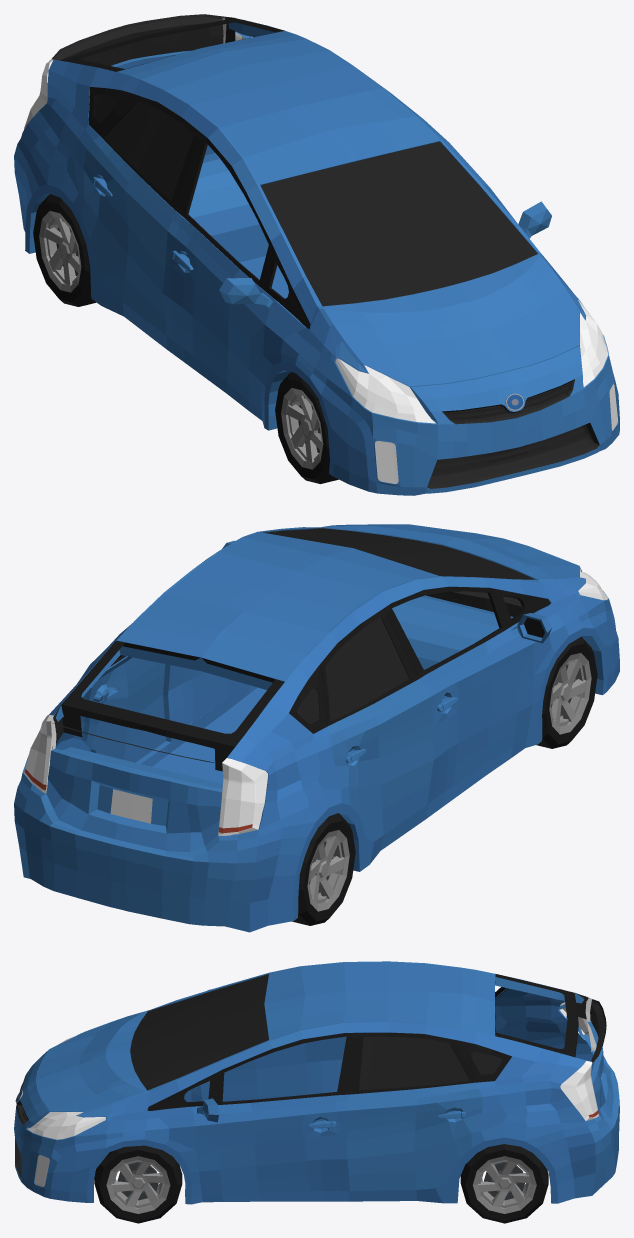
The model's file is toyota-prius.glb.
3 renders of one model, top to bottom at view 1: azimuth 30°, elevation 25°; view 2: azimuth 150°, elevation 25°; view 3: azimuth 270°, elevation 25°, orthographic. The views are drawn at different scales.
Parts seen in each view (by area): view 1: m2; view 2: m2; view 3: m2.
Boxes of the visible parts, bbox=[...] form: m2: bbox=[14, 14, 619, 495]; m2: bbox=[14, 524, 619, 932]; m2: bbox=[14, 961, 619, 1223].
Size of the model in its own units: 2.12 by 1.5 by 4.47.
2 materials, 1 textured.
